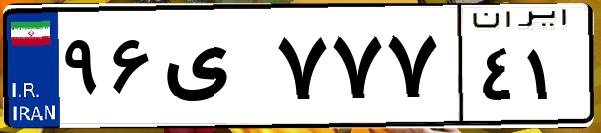1: (525, 38, 570, 115)
4: (475, 38, 525, 113)
6: (110, 28, 158, 98)
7: (270, 28, 330, 110), (385, 28, 445, 110), (330, 28, 385, 110)
9: (57, 26, 110, 100)
ی: (158, 20, 270, 120)
